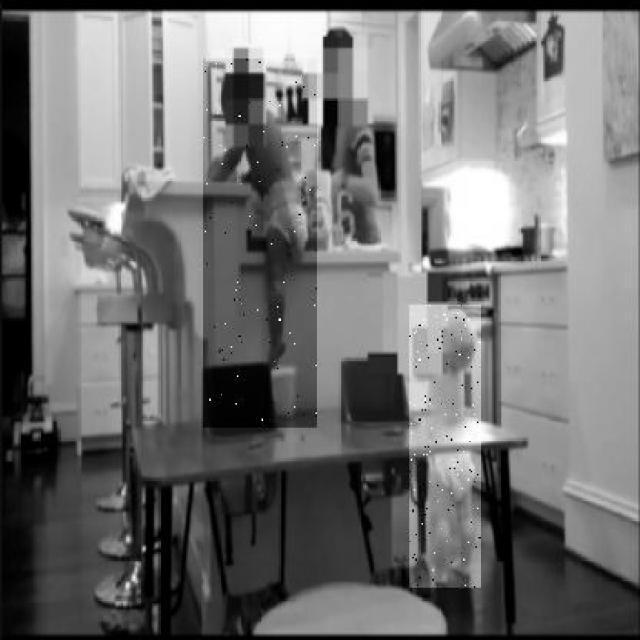child: (203, 59, 317, 428), (409, 305, 480, 588)
